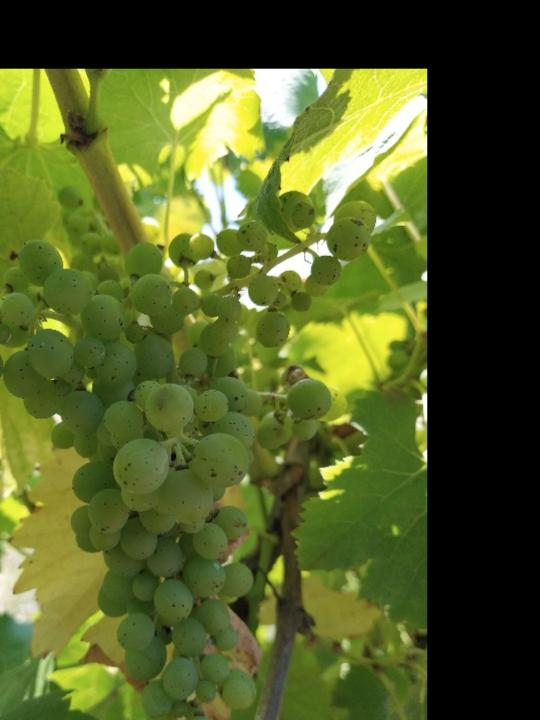grape: (0, 191, 380, 720)
